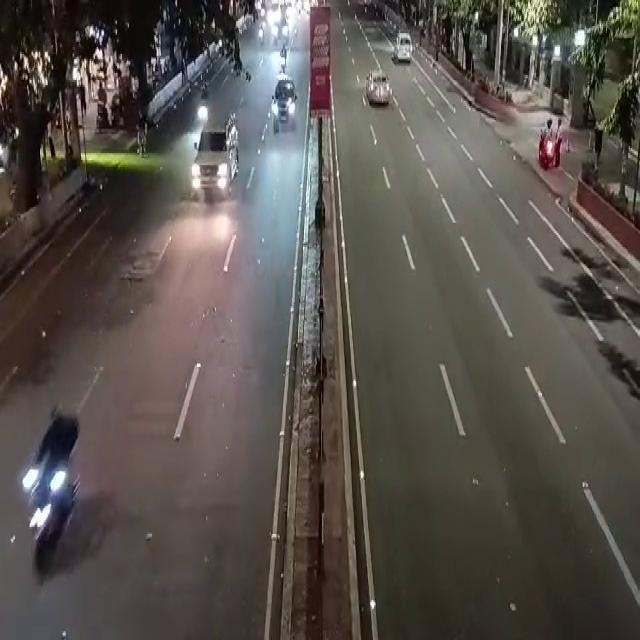car: (190, 116, 237, 207), (272, 78, 299, 138), (364, 62, 392, 106), (390, 32, 416, 71)
motorcycle: (30, 400, 84, 588), (542, 113, 556, 172)
